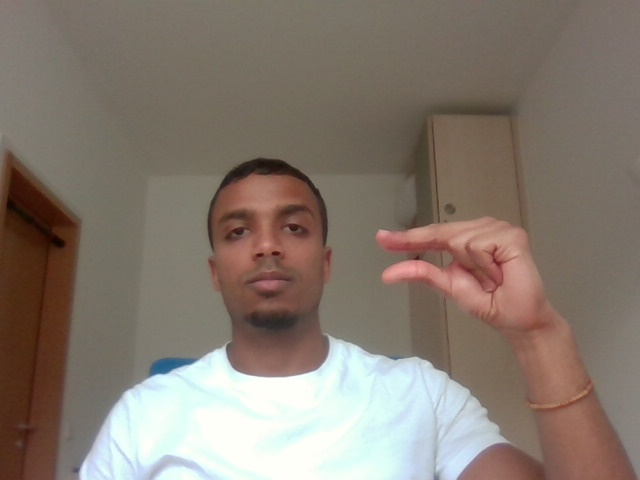never: (362, 194, 577, 351)
